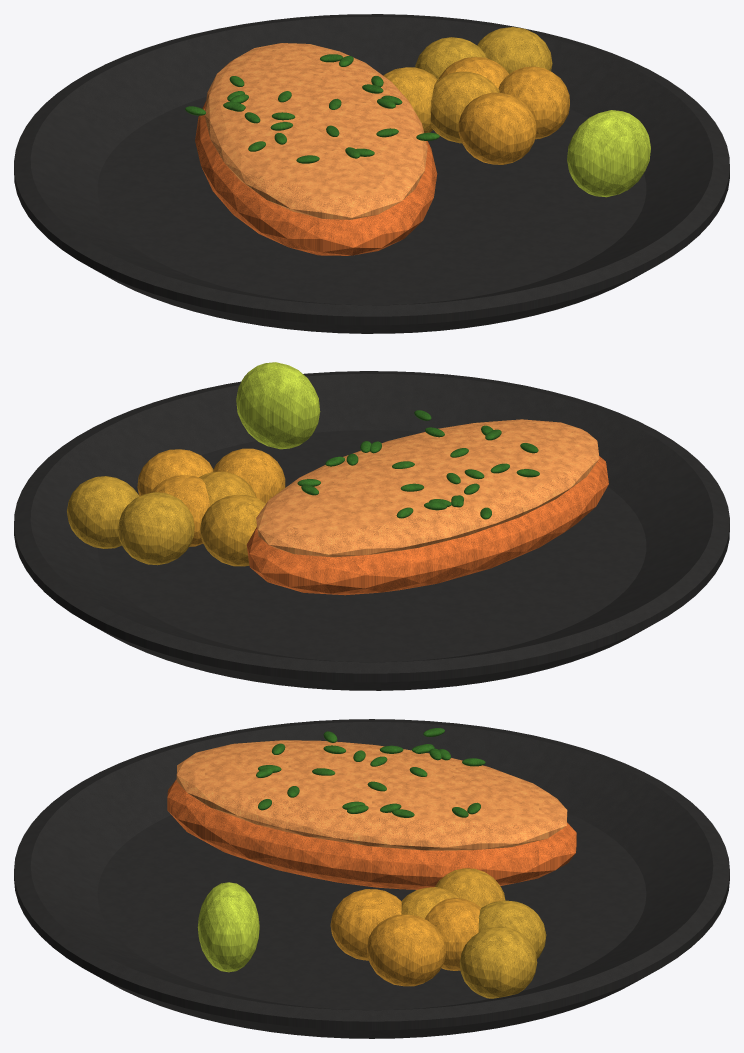
File: trucha-ajillo.glb
3 views of the same model, one above another, from view 1: azimuth 30°, elevation 25°; view 2: azimuth 150°, elevation 25°; view 3: azimuth 270°, elevation 25° (orthographic).
Visible parts, largest first — view 1: part0, part2, part1, part3, part7, part4, part5, part6; view 2: part0, part2, part1, part5, part3, part7, part4, part6; view 3: part0, part2, part1, part3, part5, part7, part6, part4.
Part boxes in pixels (bbox=[...]): part0: bbox=[14, 14, 729, 333]; part2: bbox=[204, 43, 427, 219]; part1: bbox=[195, 101, 437, 255]; part3: bbox=[439, 57, 569, 164]; part7: bbox=[567, 110, 650, 197]; part4: bbox=[383, 67, 499, 143]; part5: bbox=[415, 27, 552, 79]; part6: bbox=[185, 54, 439, 163]; part0: bbox=[14, 371, 729, 690]; part2: bbox=[256, 419, 599, 557]; part1: bbox=[246, 456, 608, 595]; part5: bbox=[67, 476, 194, 565]; part3: bbox=[137, 448, 285, 546]; part7: bbox=[236, 362, 320, 449]; part4: bbox=[199, 471, 265, 566]; part6: bbox=[297, 410, 539, 519]; part0: bbox=[14, 719, 729, 1038]; part2: bbox=[176, 740, 567, 850]; part1: bbox=[167, 779, 576, 889]; part3: bbox=[330, 889, 480, 986]; part5: bbox=[459, 900, 546, 998]; part7: bbox=[197, 882, 259, 972]; part6: bbox=[256, 728, 485, 817]; part4: bbox=[401, 868, 505, 918].
Bounding box in the file's own units: 0.3 × 0.0555 × 0.3.
8 materials, 8 textured.
